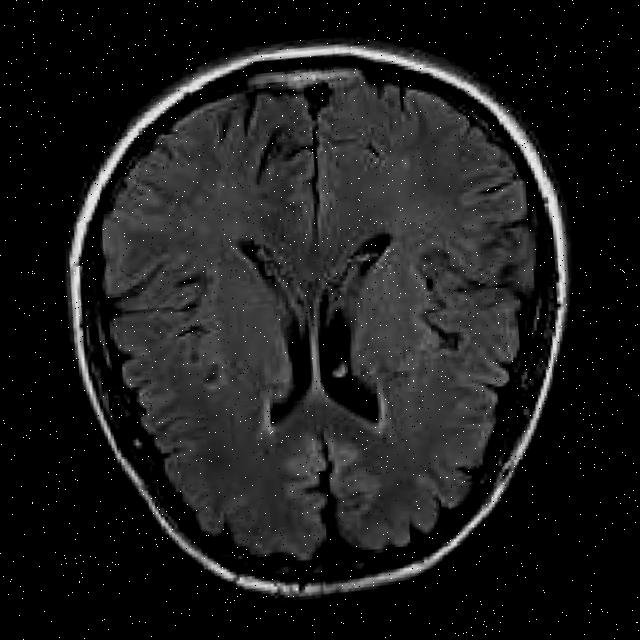NoTumor: (69, 41, 576, 586)
